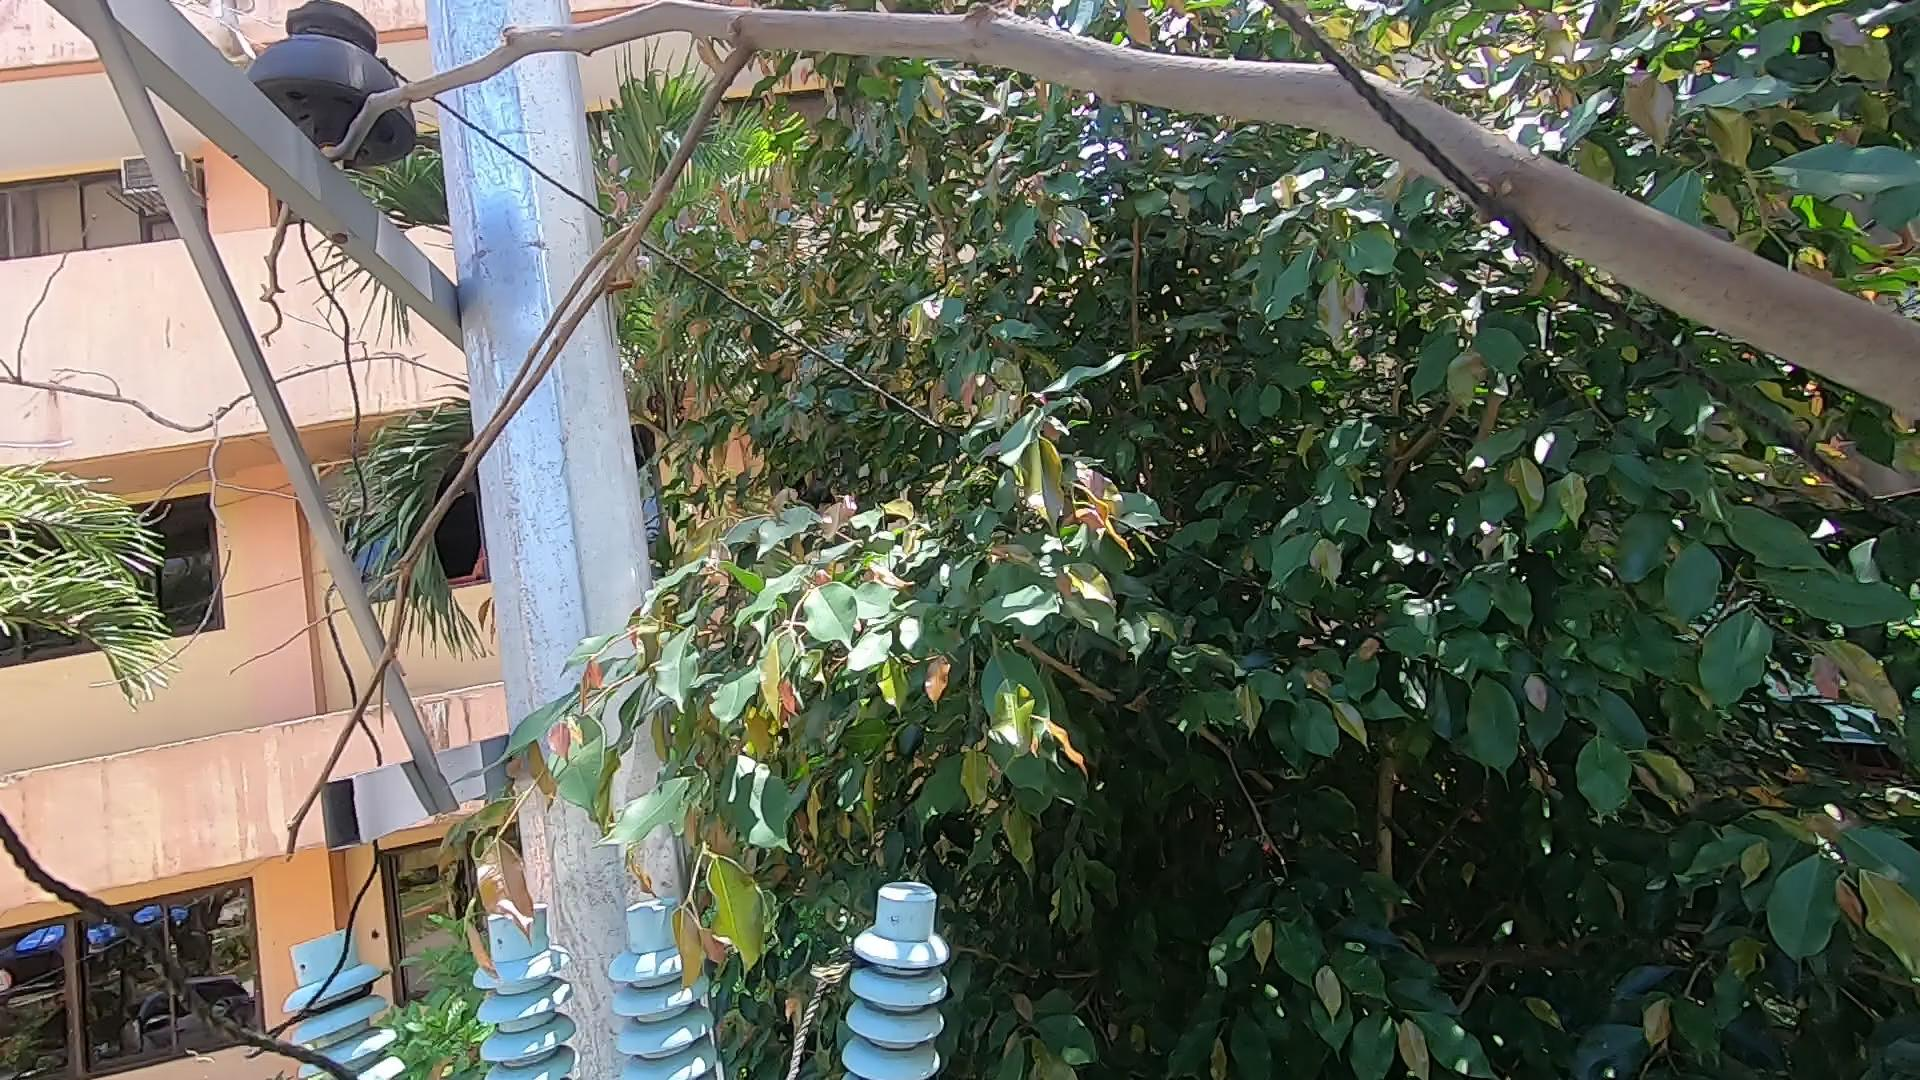branch with leaves: (497, 601, 837, 1007)
tree branch: (24, 16, 1899, 849)
